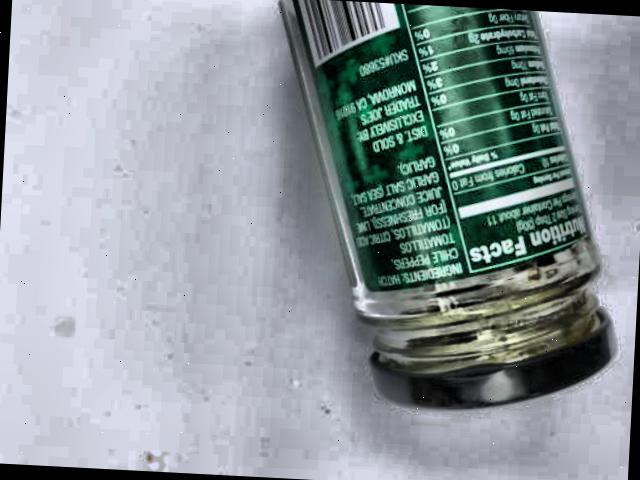Almennt: (200, 0, 640, 431)
